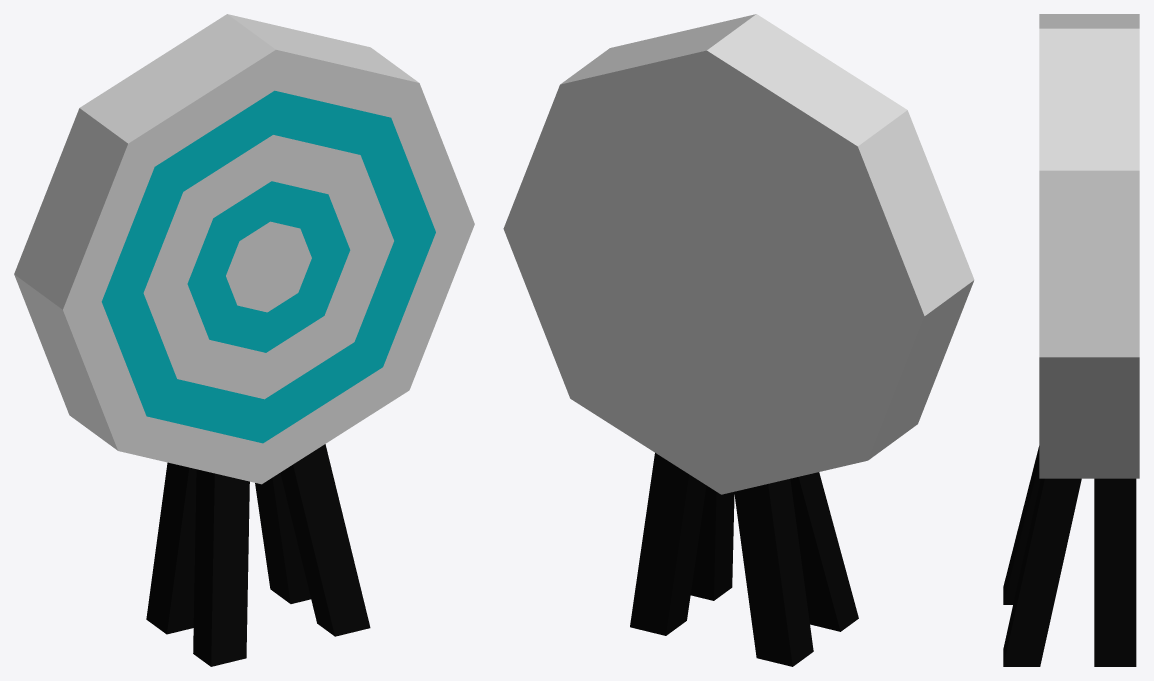
The model's file is target.gltf.
3 renders of one model, left to right at view 1: azimuth 30°, elevation 25°; view 2: azimuth 150°, elevation 25°; view 3: azimuth 270°, elevation 25°, orthographic. The views are drawn at different scales.
Parts seen in each view (by area): view 1: Target005; view 2: Target005; view 3: Target005.
Boxes of the visible parts, x1=… form: Target005: x1=14, y1=14, x2=474, y2=666; Target005: x1=503, y1=14, x2=974, y2=666; Target005: x1=1003, y1=14, x2=1139, y2=666.
Size of the model in its own units: 0.5264 by 0.7132 by 0.1469.
